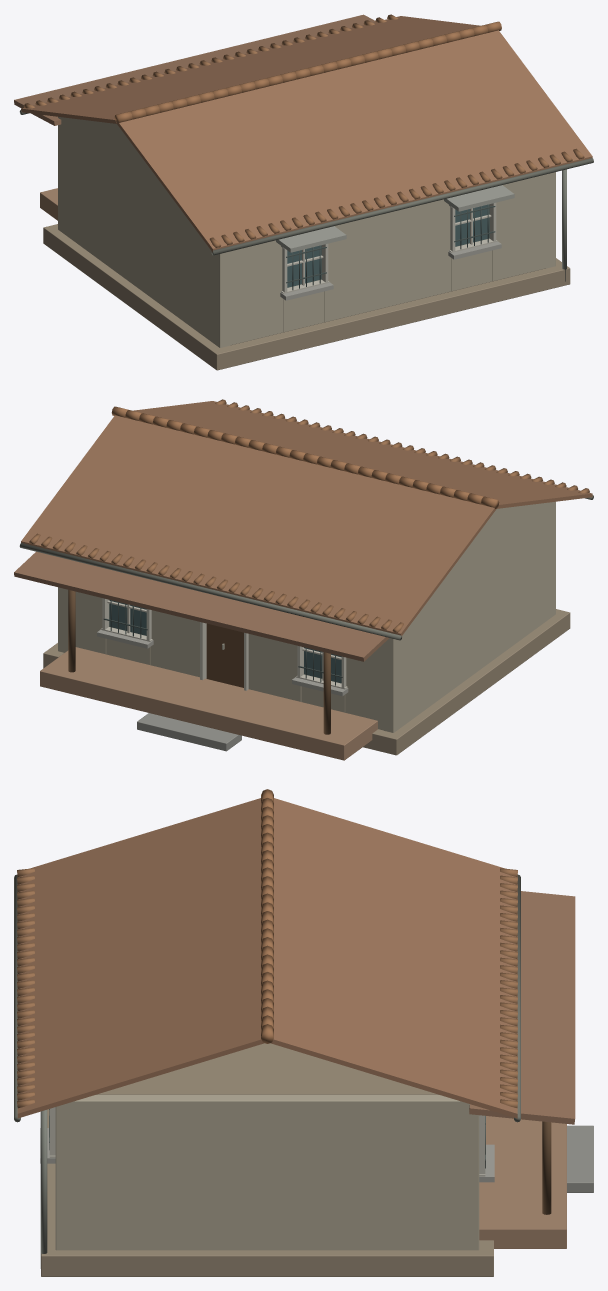
File: tiled_house.glb
The picture shows the model from 3 angles, top to bottom: view 1: azimuth 30°, elevation 25°; view 2: azimuth 150°, elevation 25°; view 3: azimuth 270°, elevation 25°; orthographic projection. The views are drawn at different scales.
Visible parts, largest first — view 1: tiled_house; view 2: tiled_house; view 3: tiled_house.
Boxes of the visible parts, <box> form: tiled_house: <box>14,14,593,370</box>; tiled_house: <box>14,399,593,760</box>; tiled_house: <box>14,789,593,1276</box>.
Bounding box in the file's own units: 9.79 × 4.78 × 9.86.
